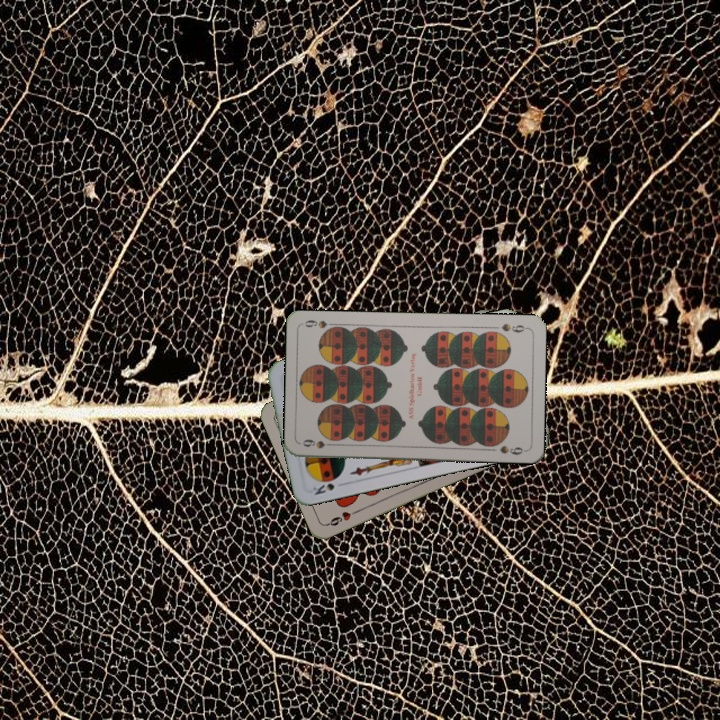H9: (323, 506, 362, 529)
S9: (299, 435, 339, 451), (497, 319, 530, 335)
SK: (309, 474, 343, 498)
